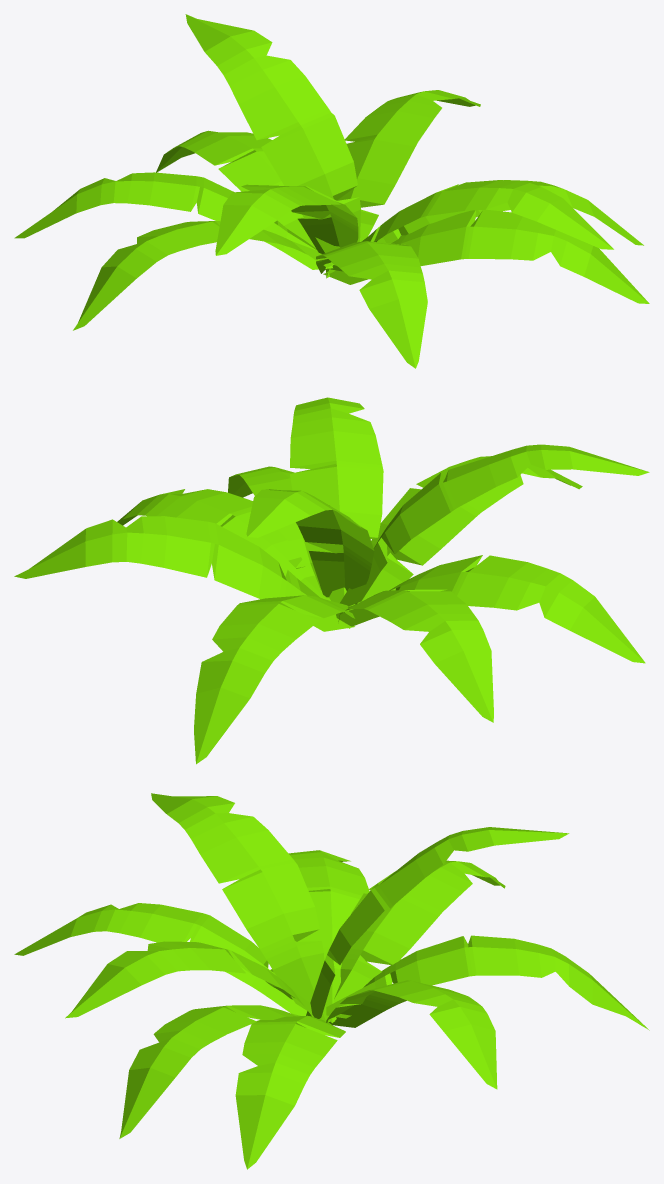
File: palm_leaves 1.fbx
The picture shows the model from 3 angles, top to bottom: view 1: azimuth 30°, elevation 25°; view 2: azimuth 150°, elevation 25°; view 3: azimuth 270°, elevation 25°; orthographic projection. The views are drawn at different scales.
Visible parts, largest first — view 1: leaf; view 2: leaf; view 3: leaf.
Boxes of the visible parts, x1,y1,x2,y2 form: leaf: [14, 14, 649, 368]; leaf: [14, 397, 649, 764]; leaf: [14, 793, 649, 1169].
Bounding box in the file's own units: 301 × 104 × 301.
